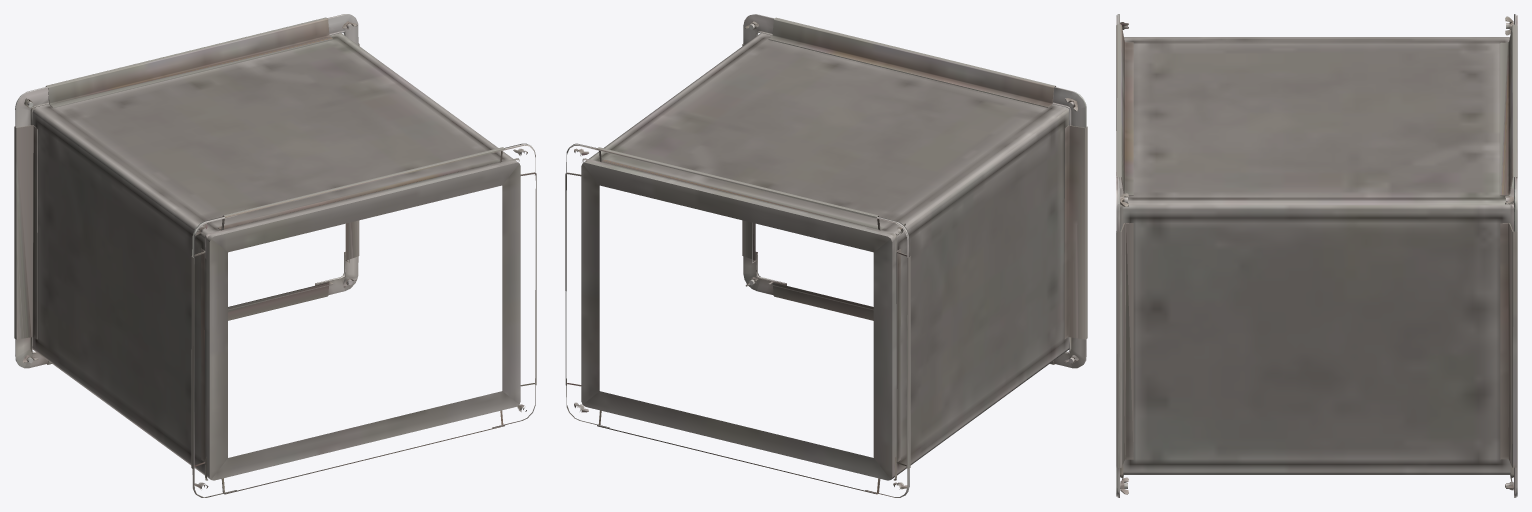
File: modular-airduct-rectangular-01-straight.glb
3 renders of one model, left to right at view 1: azimuth 30°, elevation 25°; view 2: azimuth 150°, elevation 25°; view 3: azimuth 270°, elevation 25°, orthographic. The views are drawn at different scales.
Parts seen in each view (by area): view 1: modular_airduct_rectangular_01_straight; view 2: modular_airduct_rectangular_01_straight; view 3: modular_airduct_rectangular_01_straight.
Boxes of the visible parts, x1,y1,x2,y2 form: modular_airduct_rectangular_01_straight: (14,14,536,497); modular_airduct_rectangular_01_straight: (565,14,1087,497); modular_airduct_rectangular_01_straight: (1116,14,1517,497).
Size of the model in its own units: 0.6634 by 0.5126 by 0.6.
Materials: 2 (2 with a texture image).
